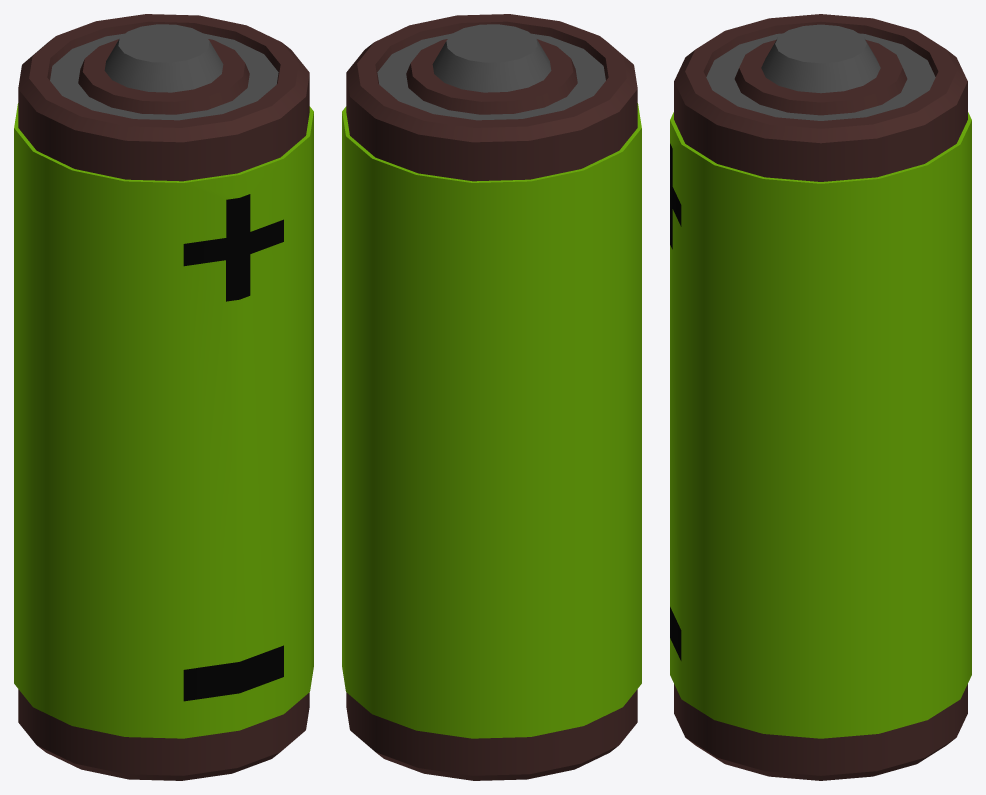
File: Battery.fbx
3 renders of one model, left to right at view 1: azimuth 30°, elevation 25°; view 2: azimuth 150°, elevation 25°; view 3: azimuth 270°, elevation 25°, orthographic.
Parts seen in each view (by area): view 1: Battery; view 2: Battery; view 3: Battery.
Boxes of the visible parts, bbox=[...] form: Battery: bbox=[14, 14, 313, 780]; Battery: bbox=[342, 14, 641, 780]; Battery: bbox=[670, 14, 971, 780].
Size of the model in its own units: 3.13 by 7.92 by 3.13.
